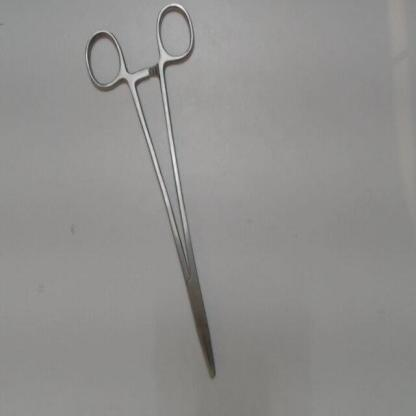8 Mayo Needle Holder: (75, 1, 223, 392)
